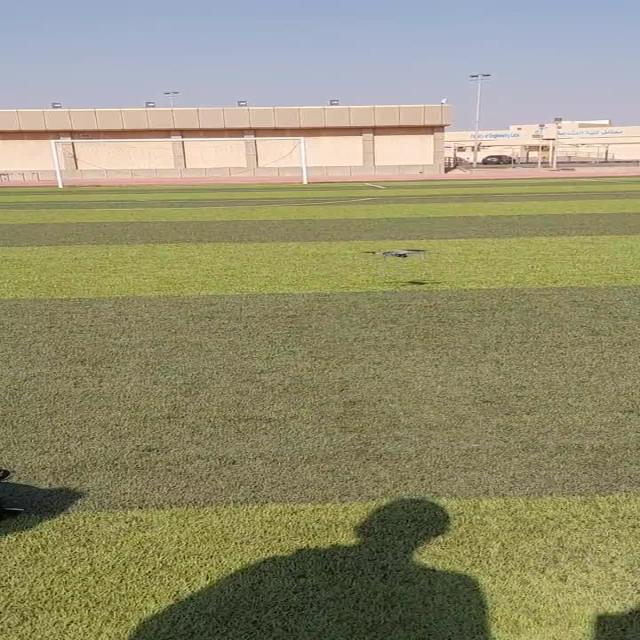drone: (341, 244, 431, 262)
